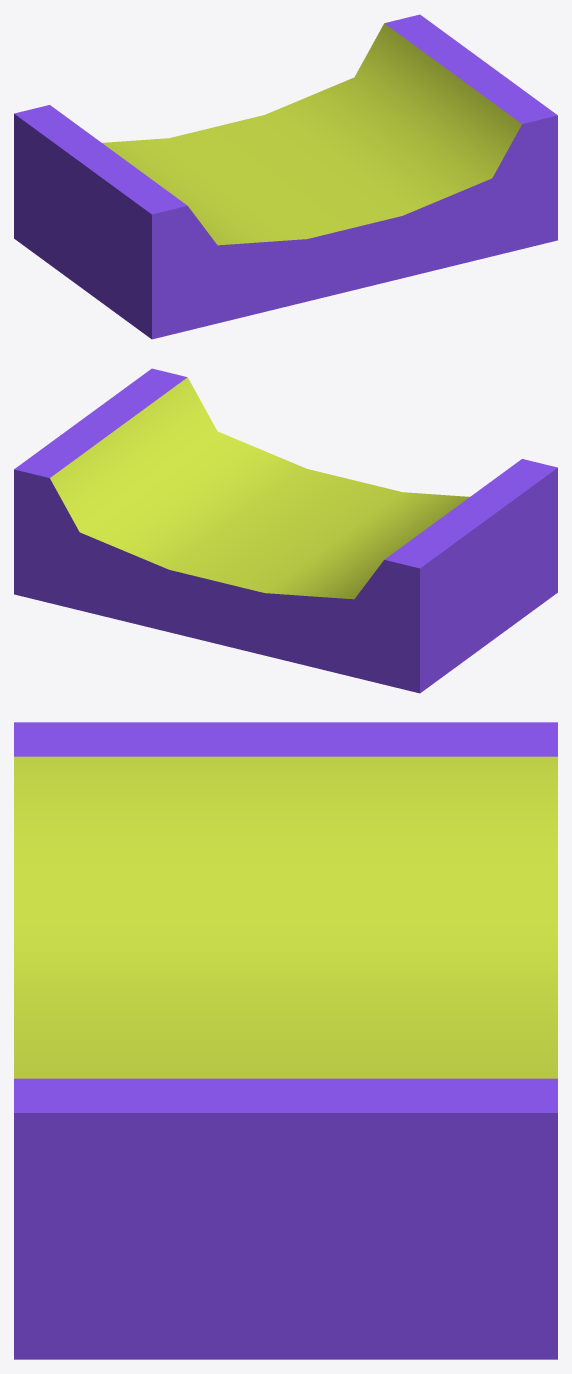
File: straight_wide.fbx
3 renders of one model, top to bottom at view 1: azimuth 30°, elevation 25°; view 2: azimuth 150°, elevation 25°; view 3: azimuth 270°, elevation 25°, orthographic. The views are drawn at different scales.
Visible parts, largest first — view 1: straight_wide; view 2: straight_wide; view 3: straight_wide.
Part boxes in pixels (left/top/right/bottom): straight_wide: left=14, top=14, right=557, bottom=339; straight_wide: left=14, top=368, right=557, bottom=693; straight_wide: left=14, top=722, right=557, bottom=1359.
Size of the model in its own units: 17 by 5 by 10.
